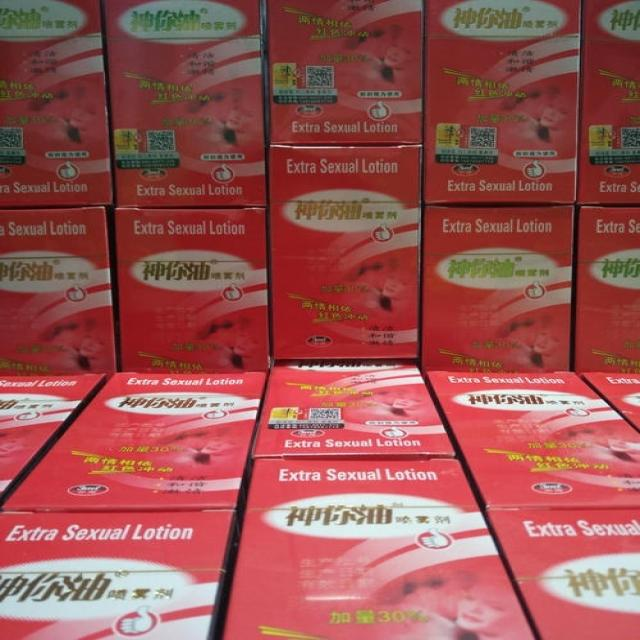box: (223, 457, 538, 640), (268, 142, 422, 360), (1, 509, 241, 640), (424, 370, 640, 510), (104, 36, 269, 206), (110, 204, 269, 373), (422, 36, 581, 203), (422, 203, 576, 372), (265, 0, 424, 144), (250, 357, 456, 459), (0, 205, 119, 376), (488, 507, 640, 640), (0, 36, 115, 209), (571, 205, 640, 374), (576, 38, 640, 205), (101, 0, 264, 39), (425, 0, 581, 37), (0, 0, 102, 36), (580, 373, 640, 433), (580, 1, 640, 38)
